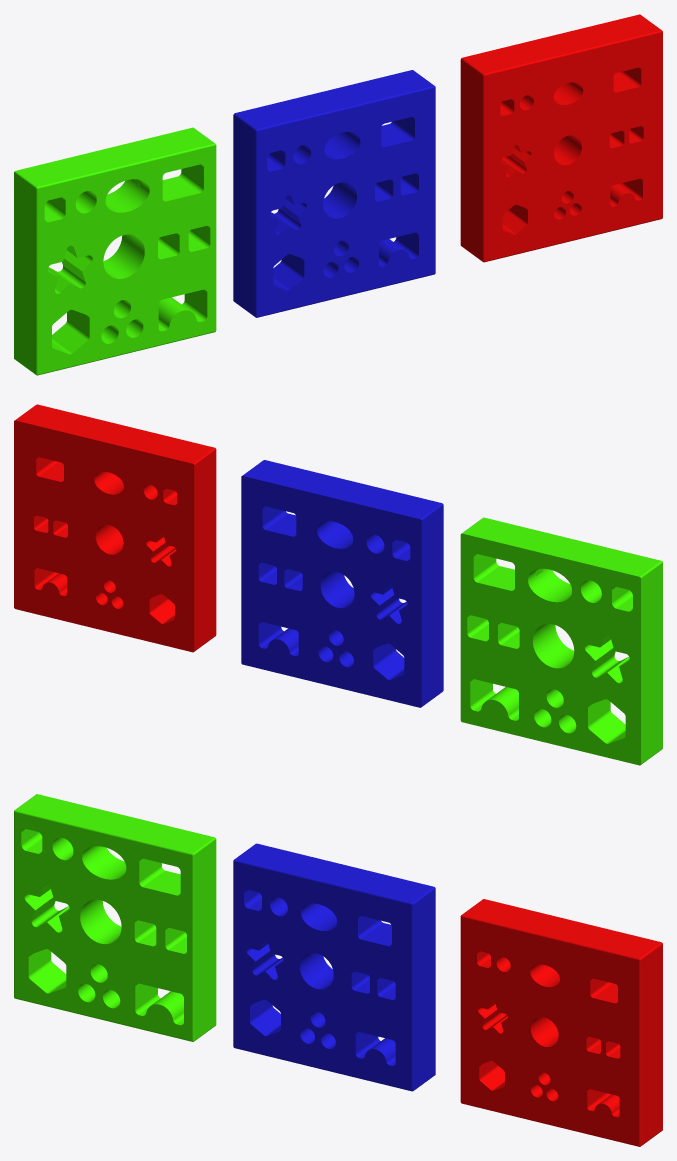
File: peg_board.obj
The picture shows the model from 3 angles, top to bottom: view 1: azimuth 30°, elevation 25°; view 2: azimuth 150°, elevation 25°; view 3: azimuth 330°, elevation 25°; orthographic projection.
Parts seen in each view (by area): view 1: obj2, obj1, obj3; view 2: obj2, obj1, obj3; view 3: obj2, obj1, obj3.
Boxes of the visible parts, x1,y1,x2,y2 form: obj2: (460,14,662,262); obj1: (233,70,435,317); obj3: (14,127,216,375); obj2: (14,404,216,652); obj1: (241,460,443,707); obj3: (460,517,662,765); obj2: (460,899,662,1146); obj1: (233,843,435,1091); obj3: (14,794,216,1041).
Size of the model in its own units: 800 by 235 by 50.
